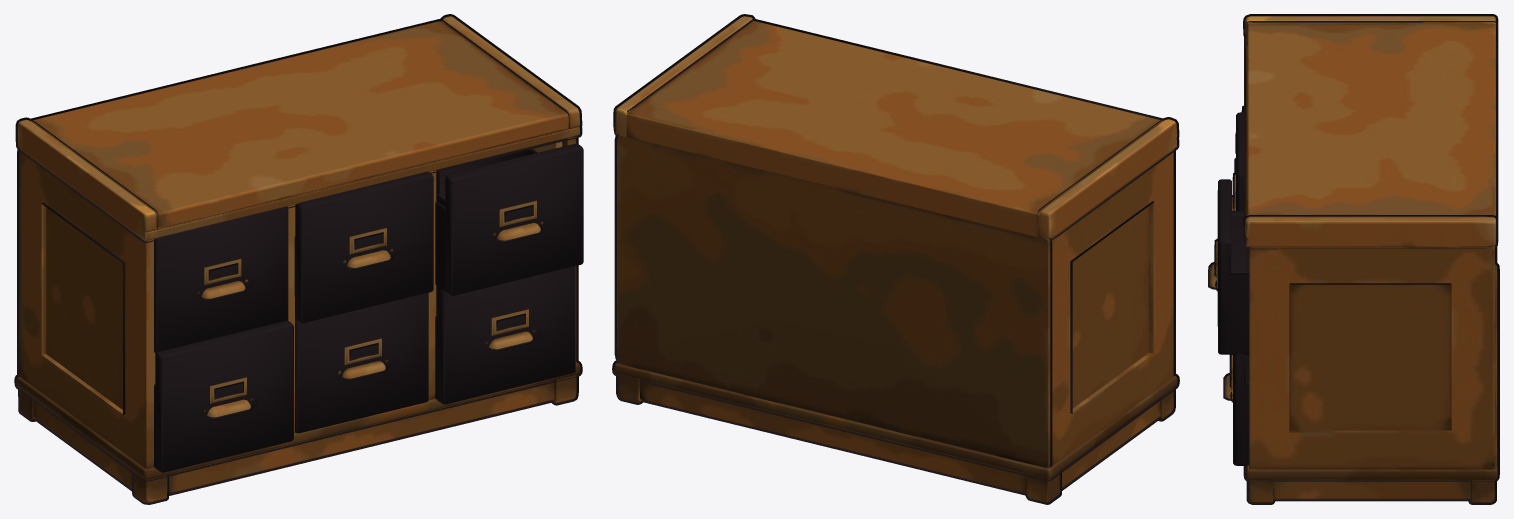
Rendered from SM_Int_Dresser.fbx.
3 views of the same model, side by side, from view 1: azimuth 30°, elevation 25°; view 2: azimuth 150°, elevation 25°; view 3: azimuth 270°, elevation 25° (orthographic). The views are drawn at different scales.
Visible parts, largest first — view 1: SM_Int_Dresser; view 2: SM_Int_Dresser; view 3: SM_Int_Dresser.
Part boxes in pixels (<box>): SM_Int_Dresser: <box>14,14,583,504</box>; SM_Int_Dresser: <box>612,14,1179,504</box>; SM_Int_Dresser: <box>1208,14,1499,504</box>.
Size of what is drawn, in the model's own units: 1.73 by 1.11 by 1.02.
